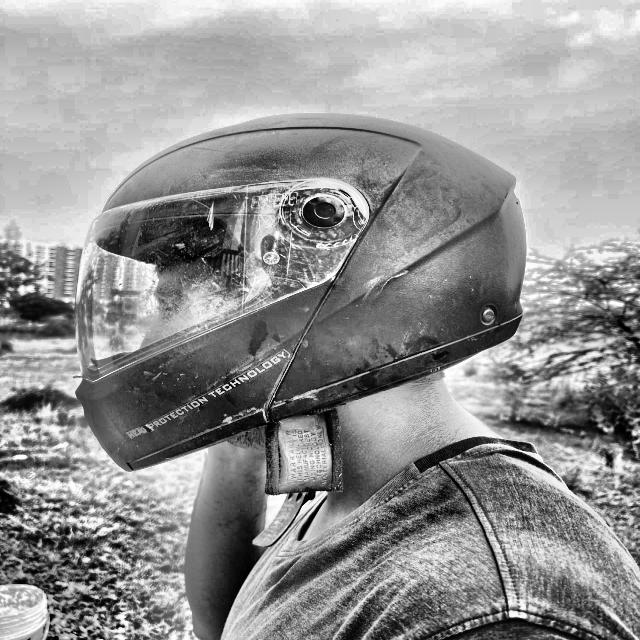Helmet: (62, 108, 544, 472)
